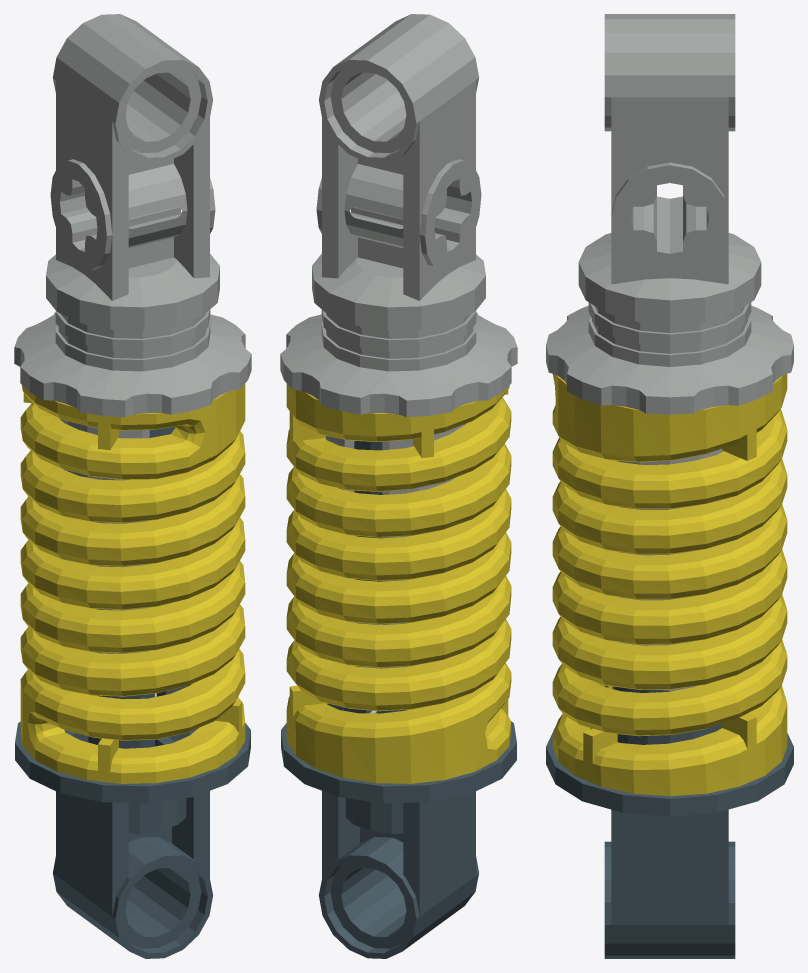
3 renders of one model, left to right at view 1: azimuth 30°, elevation 25°; view 2: azimuth 150°, elevation 25°; view 3: azimuth 270°, elevation 25°, orthographic. The views are drawn at different scales.
Visible parts, largest first — view 1: world; view 2: world; view 3: world.
Boxes of the visible parts, bbox=[...] form: world: bbox=[14, 14, 251, 958]; world: bbox=[280, 14, 517, 958]; world: bbox=[546, 14, 793, 958].
Bounding box in the file's own units: 0.0152 × 0.0632 × 0.0152.
